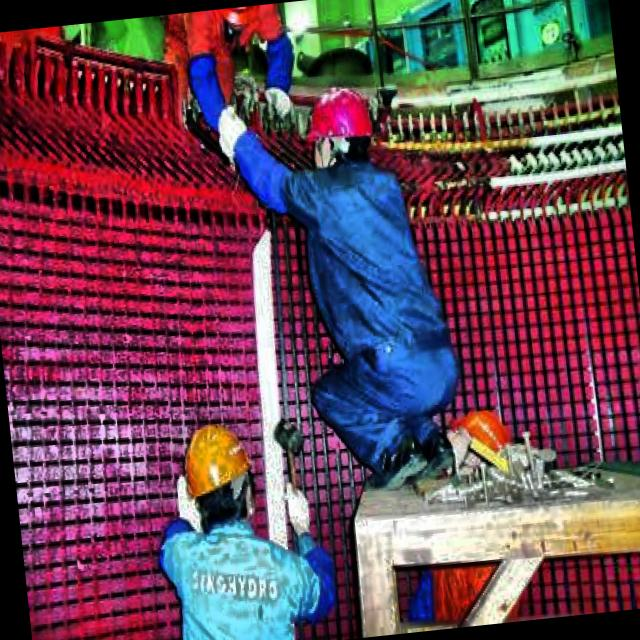helmet: (173, 411, 263, 536), (297, 83, 383, 178)
